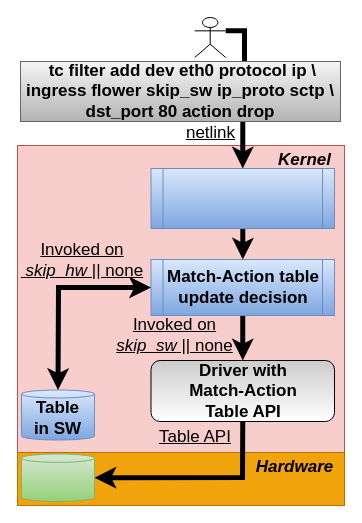
This 362x523 diagram has some shape labels left out. Here are the shapes that lost their labels. From the top down, the centre of each, then its label:
At point 242,198: "Table constraints Validation".
At point 57,477: "Table in HW".
